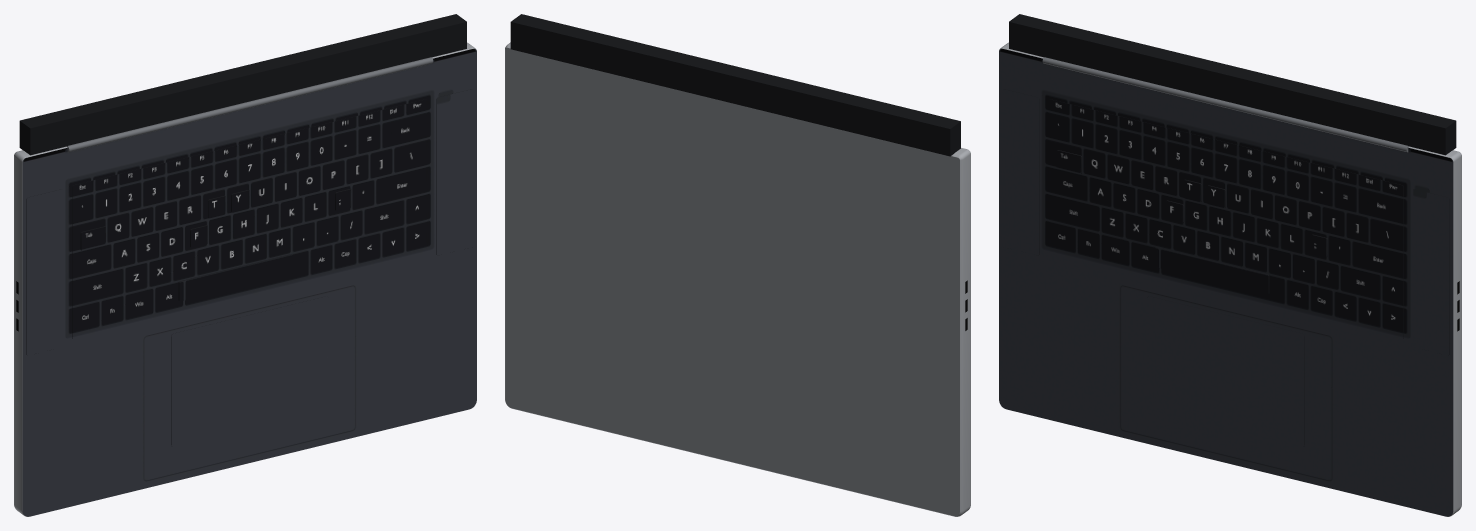
The model's file is body.obj.
3 renders of one model, left to right at view 1: azimuth 30°, elevation 25°; view 2: azimuth 150°, elevation 25°; view 3: azimuth 330°, elevation 25°, orthographic.
Parts seen in each view (by area): view 1: deck, base.002, keys.001, base, hinge, deck.001; view 2: base.001, base.002, base; view 3: deck, base.002, keys.001, base, hinge, deck.001.
Part boxes in pixels (x1,y1,x2,y2): deck: [22, 48, 476, 516]; base.002: [19, 14, 466, 155]; keys.001: [81, 189, 352, 301]; base: [14, 42, 476, 516]; hinge: [66, 57, 433, 152]; deck.001: [26, 89, 471, 444]; base.001: [505, 47, 959, 516]; base.002: [510, 14, 960, 156]; base: [505, 42, 970, 516]; deck: [999, 48, 1453, 516]; base.002: [1009, 14, 1456, 155]; keys.001: [1056, 150, 1327, 294]; base: [999, 42, 1461, 516]; hinge: [1042, 57, 1409, 152]; deck.001: [1004, 89, 1449, 444].
Bounding box in the file's own units: 357 × 290 × 18.
